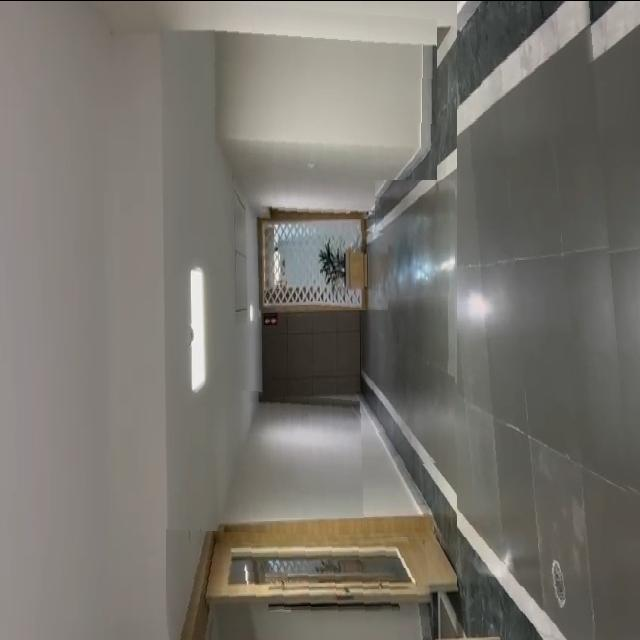door: (166, 528, 436, 640)
floor: (457, 0, 640, 629), (371, 179, 455, 466)
furniture: (316, 225, 388, 309)
wall: (204, 0, 437, 218), (226, 387, 364, 517)
